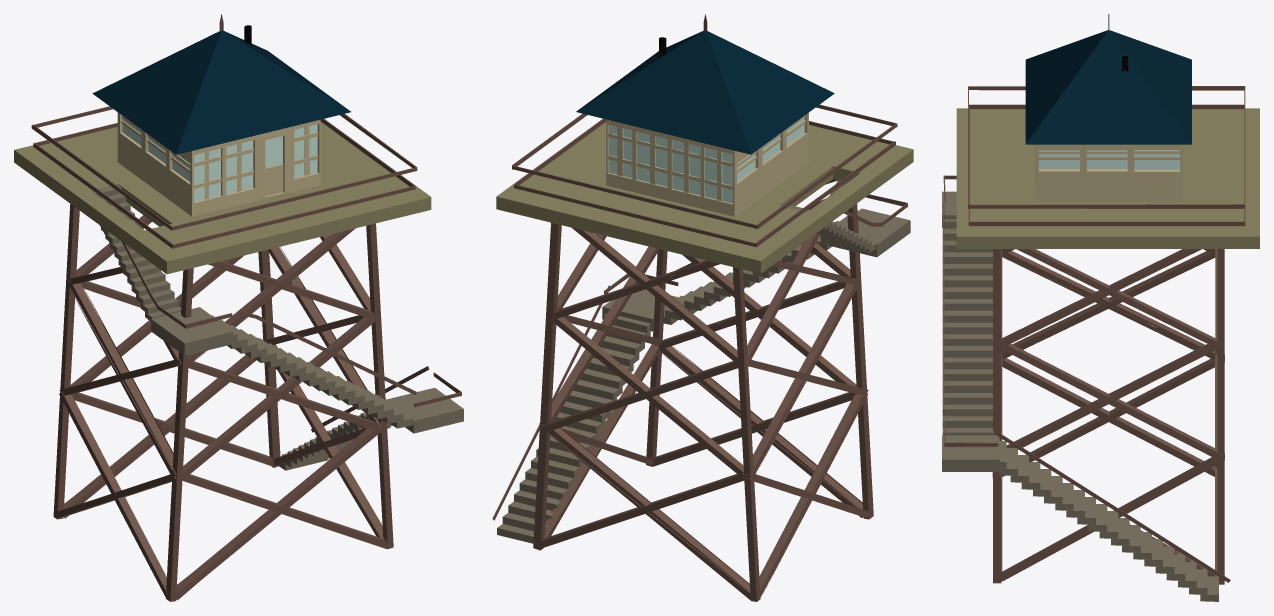
File: fire-lookout.zfix-v14.lod0.glb
The picture shows the model from 3 angles, left to right: view 1: azimuth 30°, elevation 25°; view 2: azimuth 150°, elevation 25°; view 3: azimuth 270°, elevation 25°; orthographic projection.
Visible parts, largest first — view 1: Object_4, Object_29, Object_21; view 2: Object_4, Object_29, Object_21; view 3: Object_4, Object_29, Object_21.
Part boxes in pixels (left/top/right/bottom): Object_4: left=14, top=25, right=463, bottom=470; Object_29: left=31, top=14, right=461, bottom=601; Object_21: left=117, top=112, right=320, bottom=216; Object_4: left=496, top=30, right=913, bottom=543; Object_29: left=492, top=14, right=907, bottom=601; Object_21: left=606, top=112, right=808, bottom=216; Object_4: left=942, top=30, right=1259, bottom=601; Object_29: left=943, top=14, right=1245, bottom=584; Object_21: left=1035, top=144, right=1182, bottom=201.
Bounding box in the file's own units: 9.33 × 16 × 8.93.
